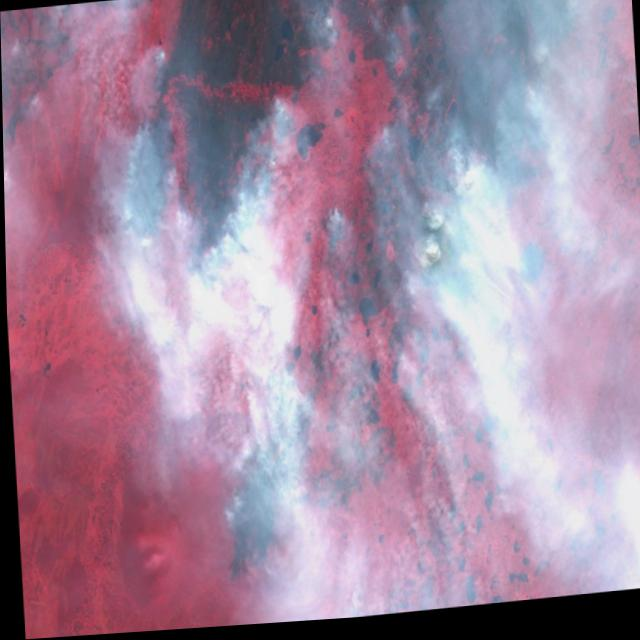fire: (358, 0, 612, 288), (98, 53, 326, 316), (193, 333, 350, 612)
